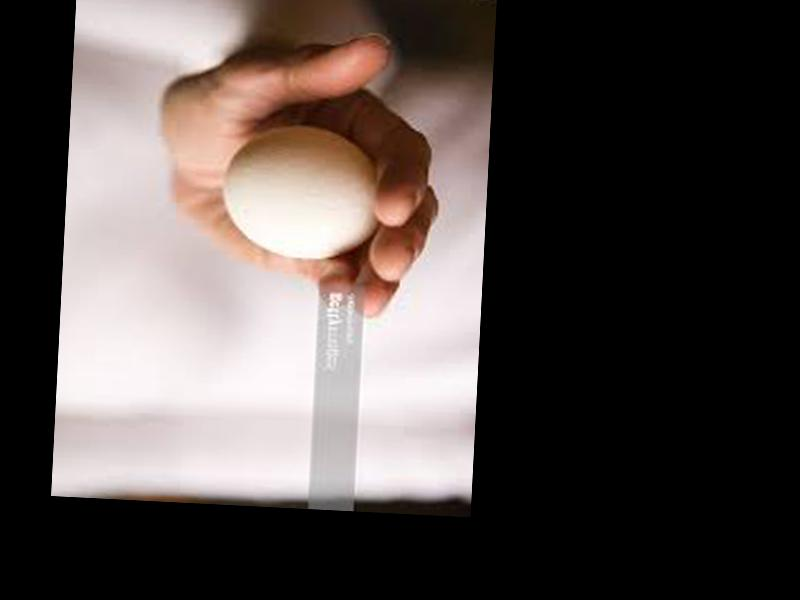Eggs: (222, 120, 382, 262)
